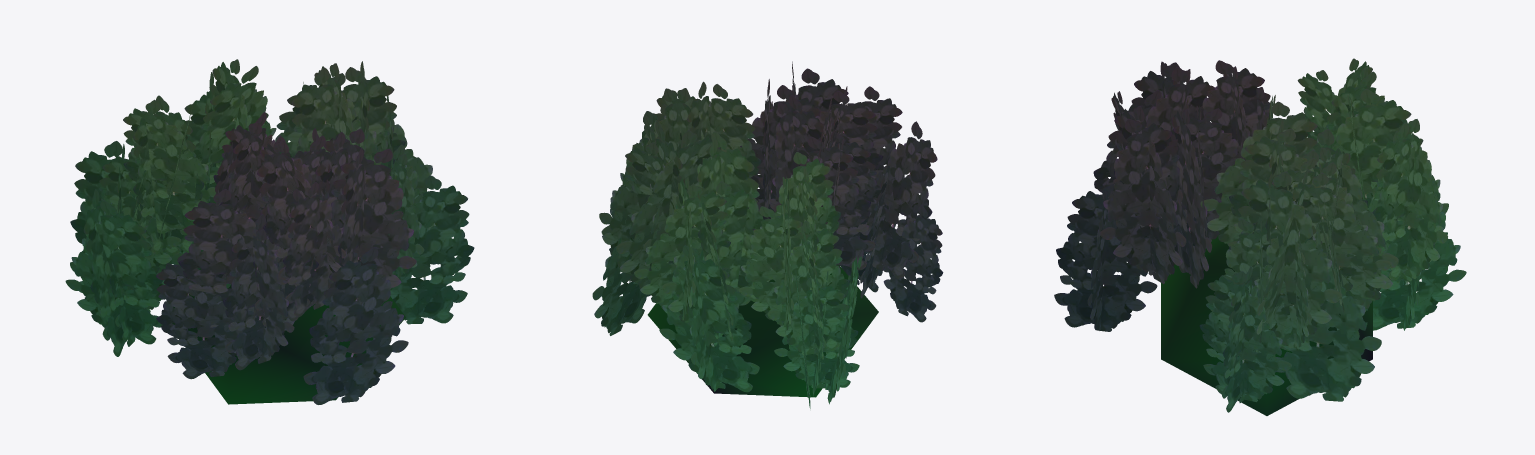
Rendered from nat_bush_dark_a_LOD1.glb.
3 views of the same model, side by side, from view 1: azimuth 30°, elevation 25°; view 2: azimuth 150°, elevation 25°; view 3: azimuth 270°, elevation 25° (orthographic). The views are drawn at different scales.
Visible parts, largest first — view 1: geometry_0; view 2: geometry_0; view 3: geometry_0.
Part boxes in pixels (x1=…): geometry_0: x1=65, y1=59, x2=474, y2=404; geometry_0: x1=592, y1=61, x2=943, y2=408; geometry_0: x1=1054, y1=58, x2=1466, y2=415.
Bounding box in the file's own units: 1.17 × 0.8478 × 1.22.
1 material, 1 textured.
